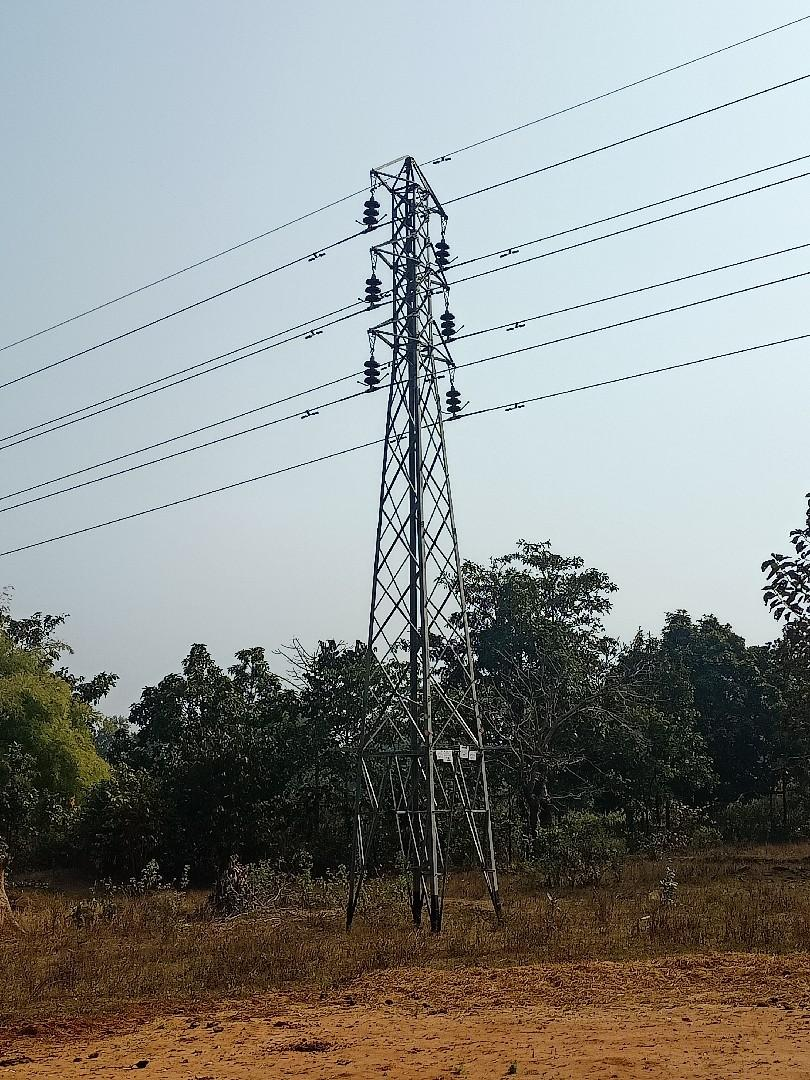GSM Antenna: (333, 148, 521, 911)
